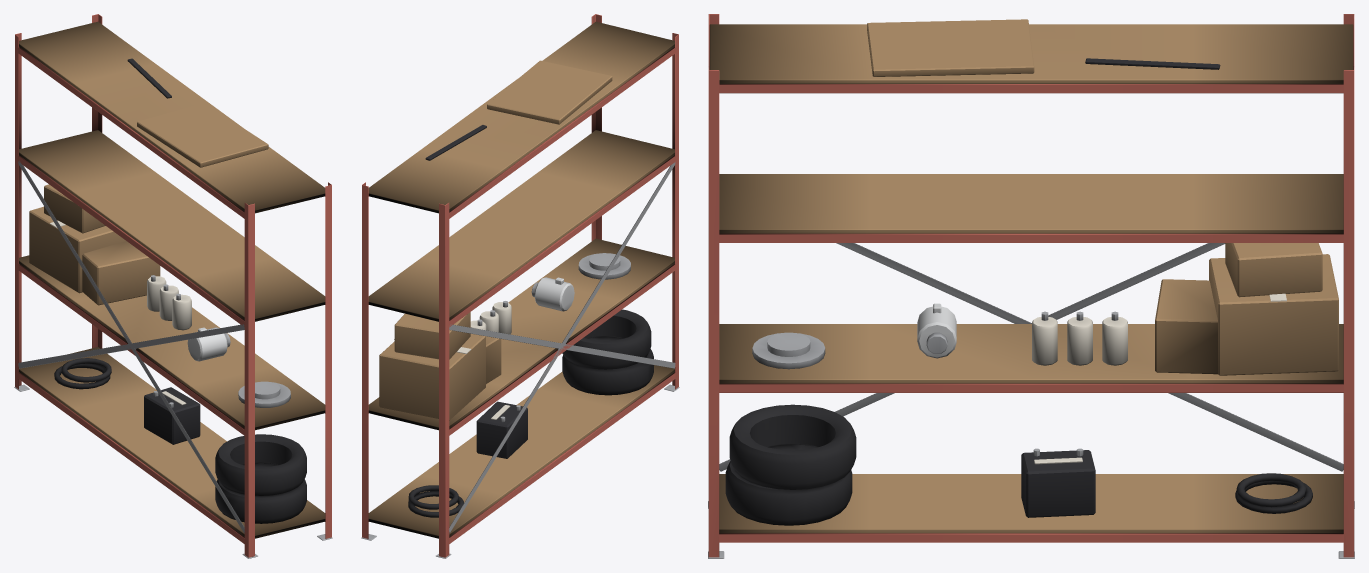
The model's file is shelf_garage.glb.
The picture shows the model from 3 angles, left to right: view 1: azimuth 30°, elevation 25°; view 2: azimuth 150°, elevation 25°; view 3: azimuth 270°, elevation 25°; orthographic projection. The views are drawn at different scales.
Visible parts, largest first — view 1: PART; view 2: PART; view 3: PART.
Part boxes in pixels (x1,y1,x2,y2): PART: (14,14,332,558); PART: (361,14,679,558); PART: (708,14,1354,558).
Bounding box in the file's own units: 0.5 × 2 × 2.4.
